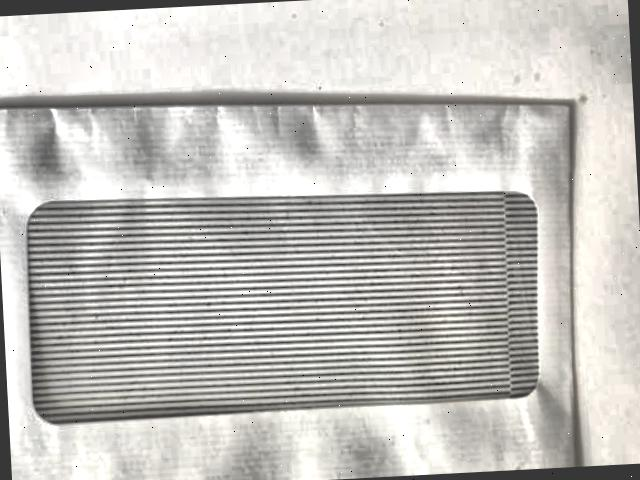Paper: (0, 74, 598, 480)
